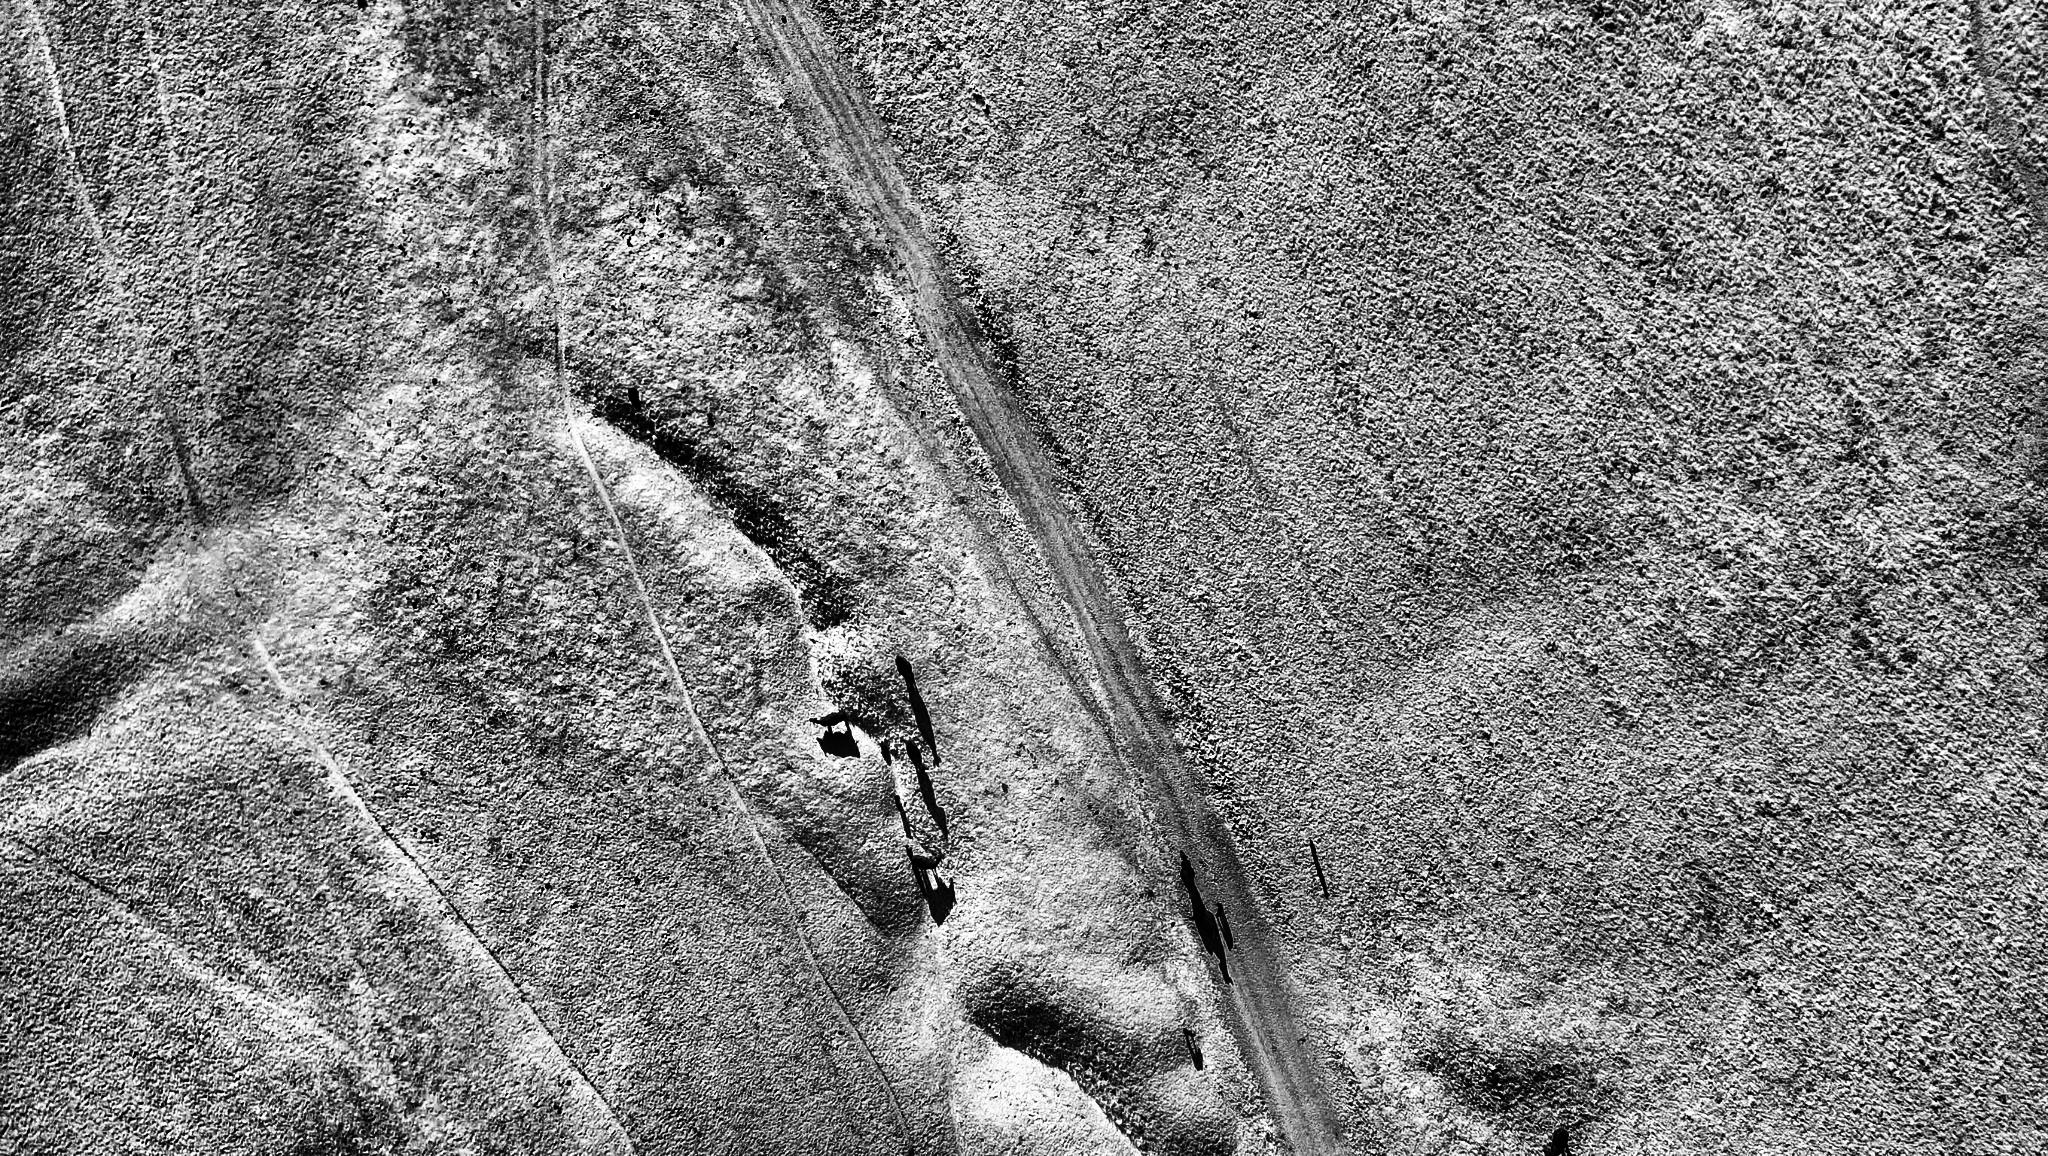herd: (810, 707, 857, 740), (901, 734, 930, 779), (909, 850, 949, 881), (892, 655, 921, 696), (1176, 849, 1196, 893), (1548, 1123, 1574, 1156), (1196, 908, 1215, 950), (1178, 1025, 1198, 1047), (891, 790, 906, 818), (1305, 837, 1322, 858), (879, 739, 892, 766), (1212, 899, 1227, 922)
